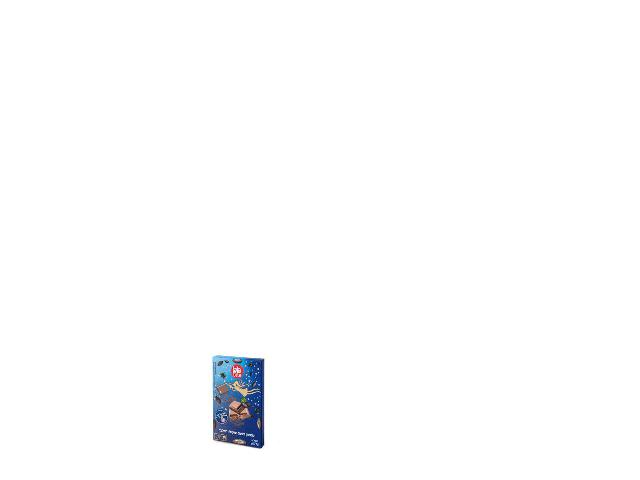chocolate: (205, 353, 270, 448)
